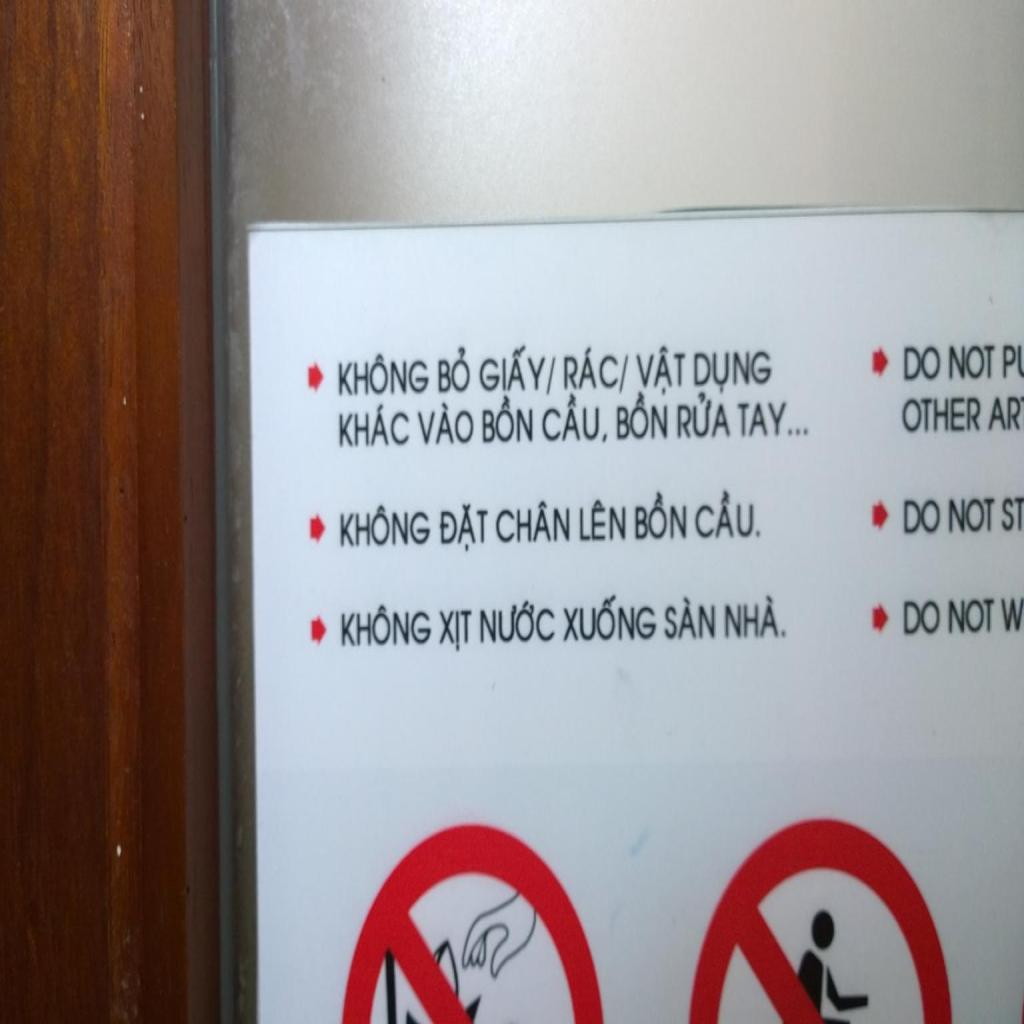text: (562, 592, 658, 642), (339, 352, 430, 397), (340, 504, 433, 548), (342, 603, 434, 647), (478, 597, 556, 645), (542, 392, 610, 446), (695, 486, 762, 539), (694, 350, 773, 394), (902, 392, 984, 434), (478, 345, 548, 393), (495, 500, 571, 544), (338, 402, 410, 448), (724, 594, 788, 640), (737, 400, 810, 438), (634, 344, 687, 396), (482, 394, 534, 446), (676, 392, 732, 440), (634, 490, 687, 540), (414, 403, 474, 447), (617, 391, 668, 442), (439, 502, 489, 554), (664, 596, 716, 641), (579, 500, 627, 542), (947, 494, 996, 535), (948, 342, 998, 382), (947, 596, 996, 635), (438, 345, 472, 395), (902, 342, 942, 383), (438, 609, 472, 653), (986, 394, 1023, 434), (904, 499, 942, 534), (904, 600, 942, 635), (1000, 496, 1024, 532), (1002, 343, 1019, 384), (546, 356, 558, 394), (619, 354, 629, 395)
